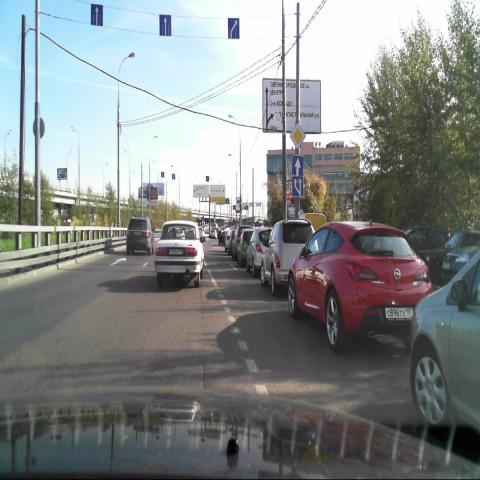2_1: (289, 122, 305, 150)
5_15_2: (90, 0, 104, 26), (158, 13, 172, 38), (228, 16, 241, 38)
5_15_3: (291, 176, 304, 197)
5_5: (290, 154, 304, 177)
